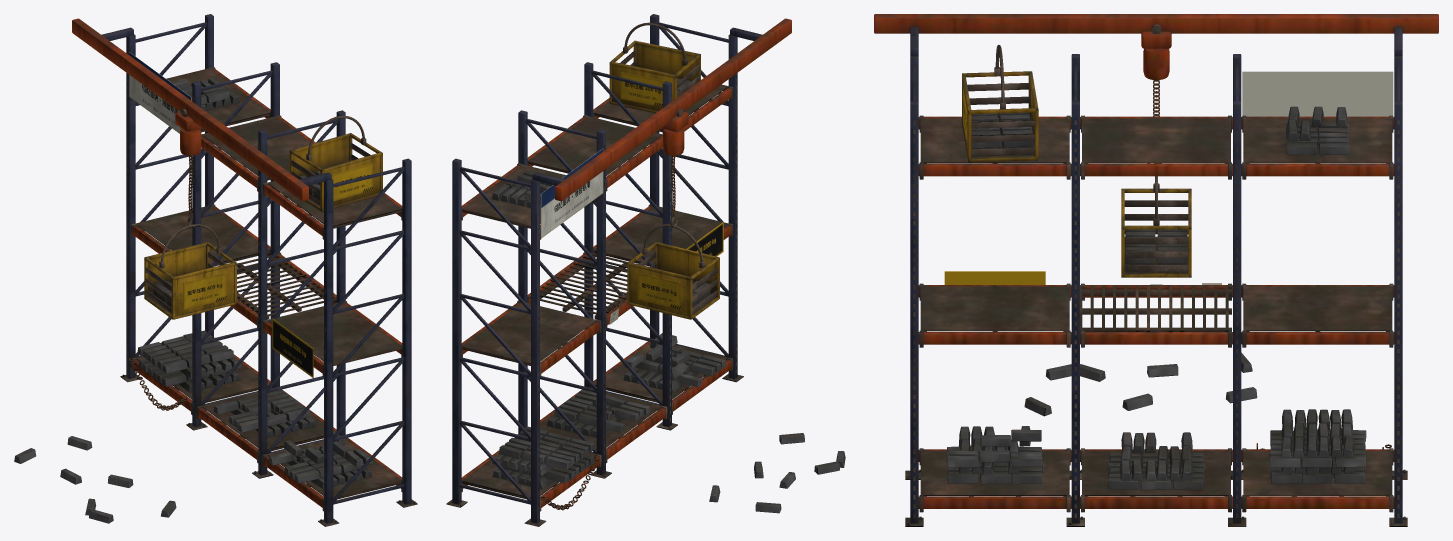
The model's file is ballast-rack.glb.
3 views of the same model, side by side, from view 1: azimuth 30°, elevation 25°; view 2: azimuth 150°, elevation 25°; view 3: azimuth 270°, elevation 25° (orthographic). The views are drawn at different scales.
Visible parts, largest first — view 1: ballast-rack, ballast-crate, stencils, ballast-crate-stencils; view 2: ballast-rack, ballast-crate, stencils, ballast-crate-stencils; view 3: ballast-rack, stencils, ballast-crate.
Boxes of the visible parts, x1,y1,x2,y2 form: ballast-rack: (14,14,417,526); ballast-crate: (144,224,236,319); stencils: (129,52,372,378); ballast-crate-stencils: (183,272,226,309); ballast-rack: (446,14,845,526); ballast-crate: (627,224,719,319); stencils: (541,72,723,324); ballast-crate-stencils: (637,272,680,309); ballast-rack: (874,14,1438,526); stencils: (944,71,1393,284); ballast-crate: (1121,176,1191,277).
Bounding box in the file's own units: 3.73 × 5.04 × 5.6.
3 materials, 3 textured.
